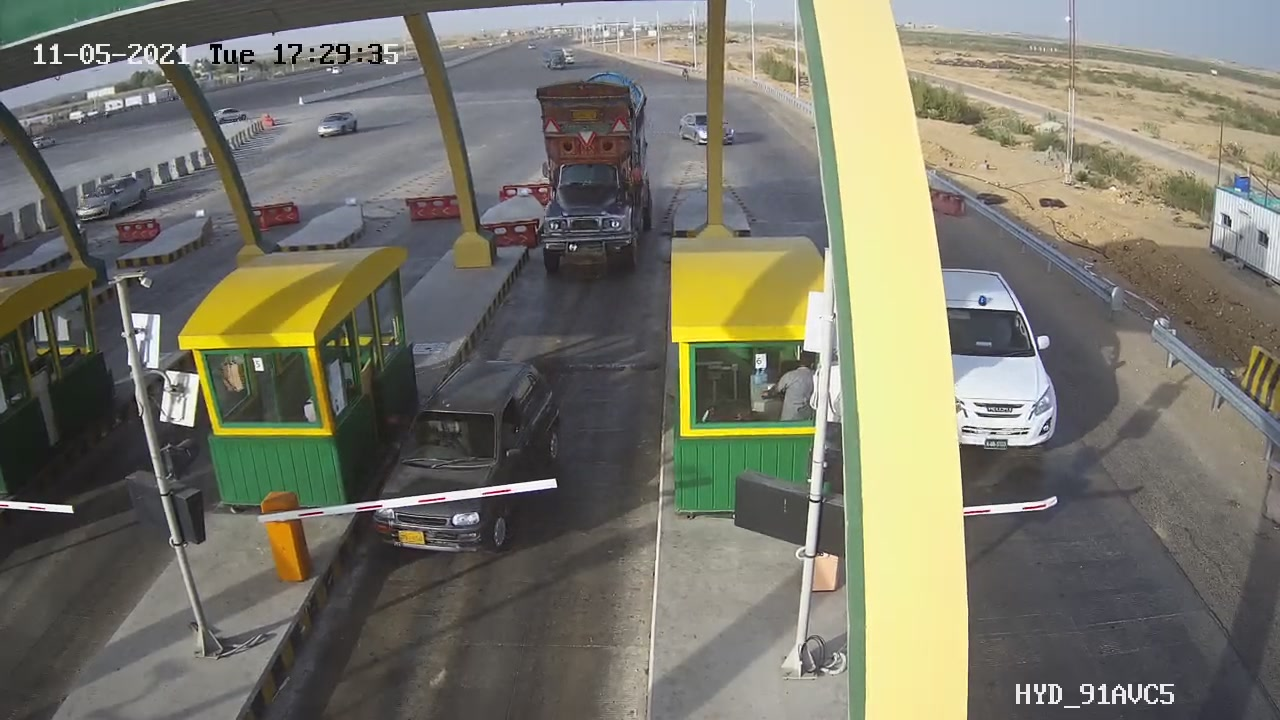F1: (357, 343, 589, 572)
F5: (514, 67, 663, 286)
